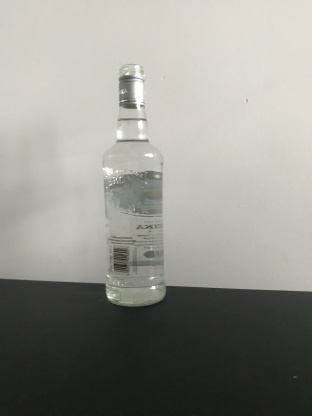nakretka: (116, 61, 146, 110)
